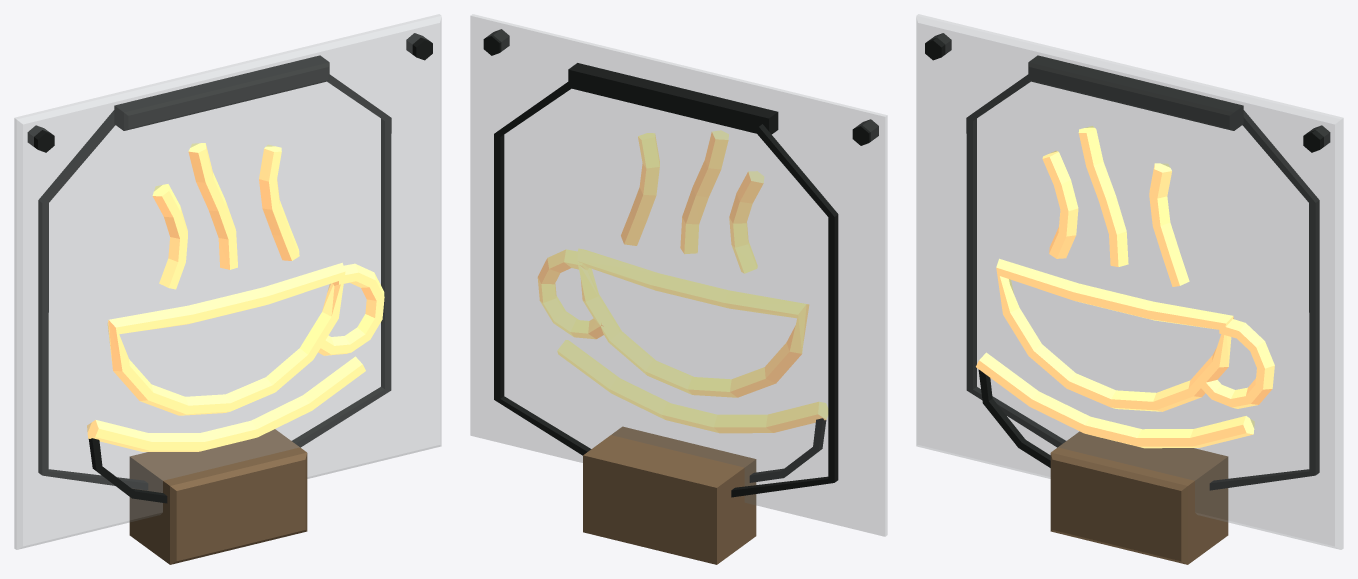
Rendered from neon-window-sign-92a889.glb.
3 views of the same model, side by side, from view 1: azimuth 30°, elevation 25°; view 2: azimuth 150°, elevation 25°; view 3: azimuth 330°, elevation 25° (orthographic). The views are drawn at different scales.
Visible parts, largest first — view 1: neon-window-sign; view 2: neon-window-sign; view 3: neon-window-sign.
Boxes of the visible parts, <box> form: neon-window-sign: <box>14,14,441,564</box>; neon-window-sign: <box>470,14,887,564</box>; neon-window-sign: <box>916,14,1343,564</box>.
Size of the model in its own units: 0.62 by 0.66 by 0.108.
